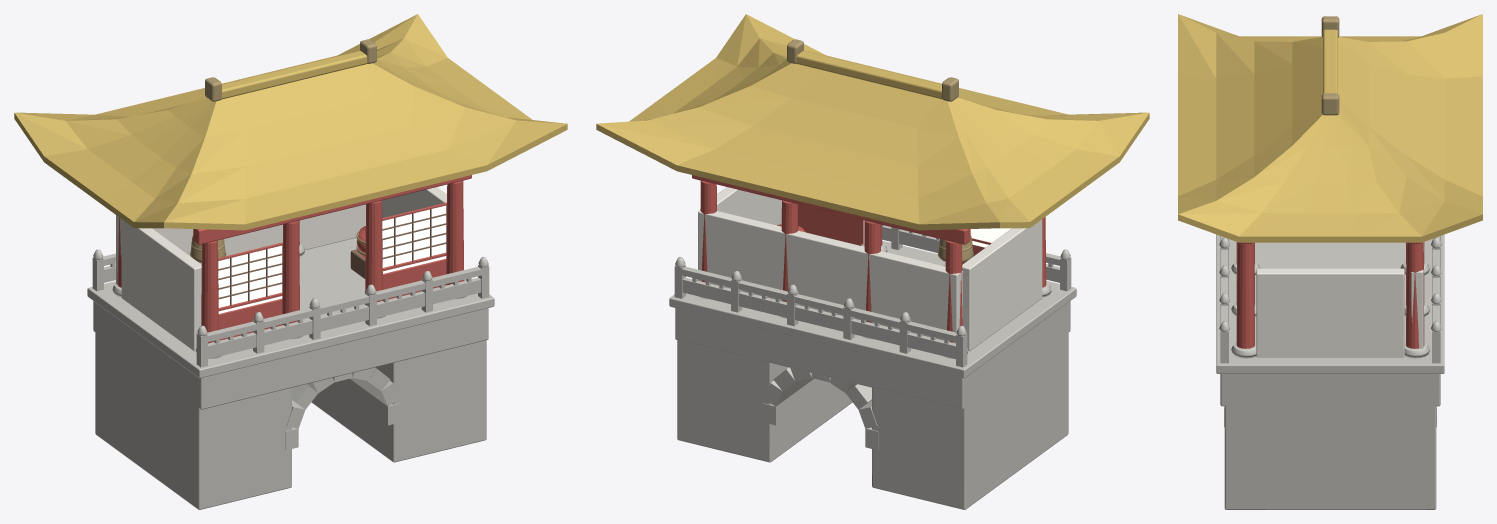
Rendered from gate.gltf.
3 renders of one model, left to right at view 1: azimuth 30°, elevation 25°; view 2: azimuth 150°, elevation 25°; view 3: azimuth 270°, elevation 25°, orthographic.
Parts seen in each view (by area): view 1: 131-gate-tower/0, 131-gate-tower/5, 131-gate-tower/2, 131-gate-tower/1, 131-gate-tower/3, 131-gate-tower/4, 131-gate-tower/6; view 2: 131-gate-tower/0, 131-gate-tower/5, 131-gate-tower/2, 131-gate-tower/1, 131-gate-tower/6; view 3: 131-gate-tower/5, 131-gate-tower/0, 131-gate-tower/2, 131-gate-tower/1, 131-gate-tower/6.
Part boxes in pixels (x1,y1,x2,y2): 131-gate-tower/0: [87, 237, 494, 509]; 131-gate-tower/5: [14, 14, 567, 230]; 131-gate-tower/2: [116, 187, 446, 351]; 131-gate-tower/1: [117, 175, 471, 343]; 131-gate-tower/3: [218, 205, 446, 313]; 131-gate-tower/4: [218, 209, 446, 305]; 131-gate-tower/6: [205, 39, 376, 101]; 131-gate-tower/0: [669, 225, 1076, 509]; 131-gate-tower/5: [596, 14, 1149, 230]; 131-gate-tower/2: [698, 187, 1042, 351]; 131-gate-tower/1: [692, 175, 1046, 342]; 131-gate-tower/6: [787, 39, 958, 101]; 131-gate-tower/5: [1178, 14, 1482, 242]; 131-gate-tower/0: [1216, 234, 1444, 509]; 131-gate-tower/2: [1256, 242, 1423, 357]; 131-gate-tower/1: [1236, 242, 1424, 348]; 131-gate-tower/6: [1321, 16, 1339, 115].
Size of the model in its own units: 11.2 by 9.98 by 7.2.
